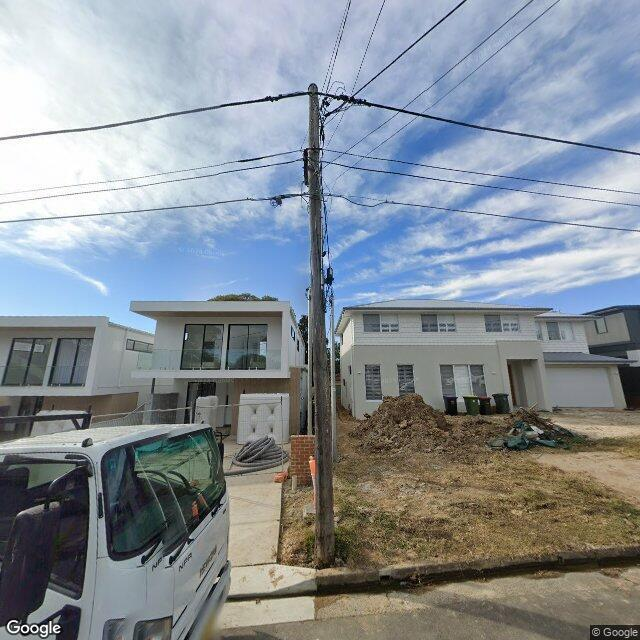crossarm: (302, 148, 310, 187)
timber-pole: (308, 82, 337, 568)
